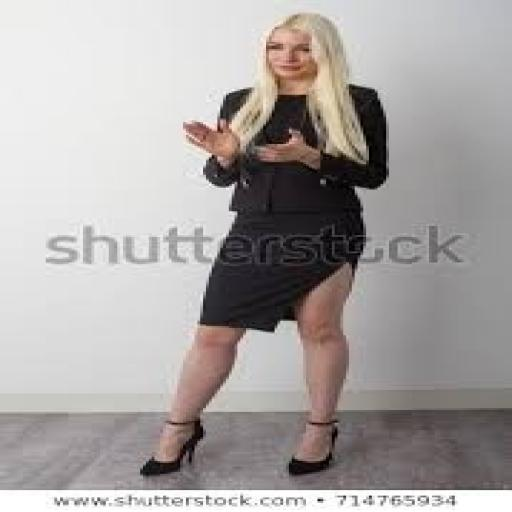clapping: (134, 11, 392, 477)
